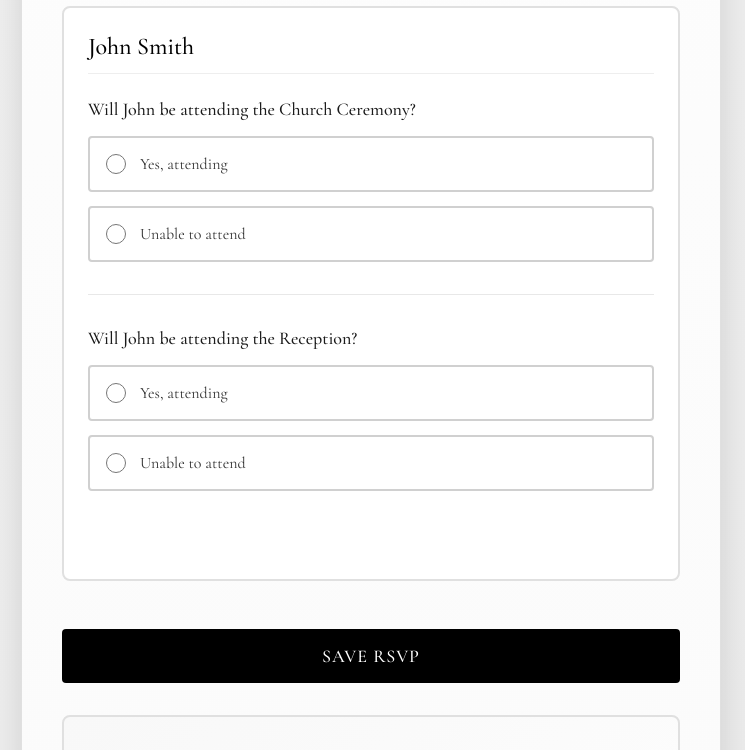
Test: RSVPForm › meal preference appears only after choosing to attend the reception
(page scrolled)
Expected: the text "meal preference" is not shown
Click the radio button showing "Yes" below "be attending the Reception?" at (116, 393), box x1=106 y1=383 x2=126 y2=403
(page scrolled)
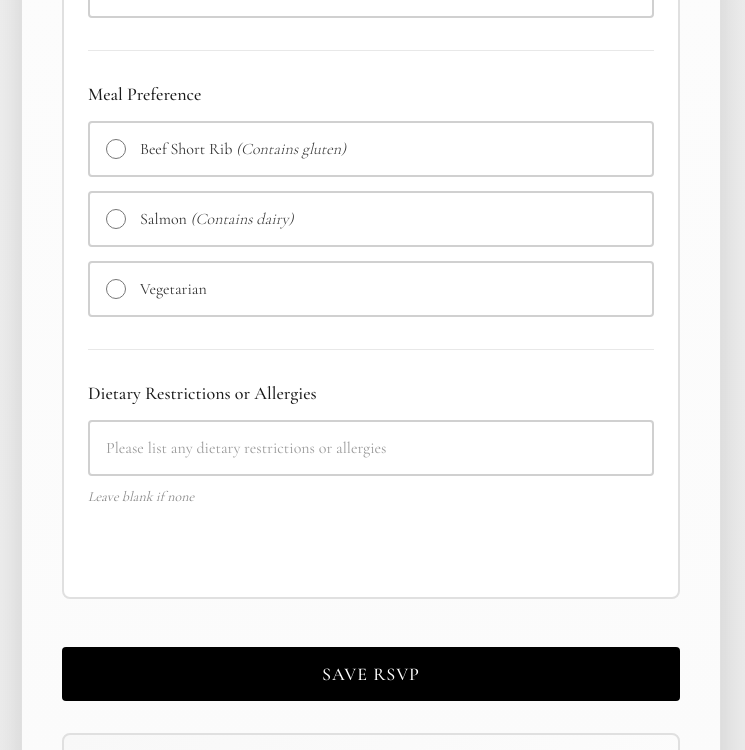
Now the text "Meal Preference" is shown, box x1=88 y1=83 x2=201 y2=105
Now the radio button showing "Beef Short Rib" is shown, box x1=106 y1=139 x2=126 y2=159
Now the radio button showing "Salmon" is shown, box x1=106 y1=209 x2=126 y2=229
